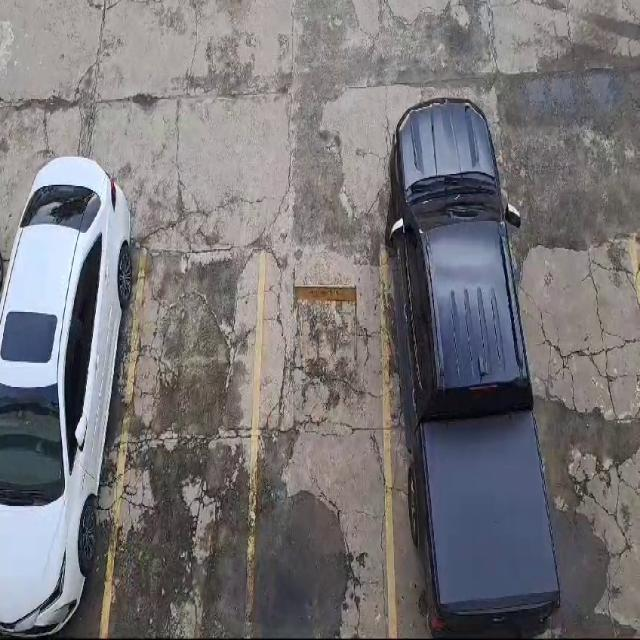empty: (104, 253, 264, 639), (249, 254, 395, 636), (508, 238, 639, 636)
notEmpty: (384, 239, 541, 635), (1, 249, 144, 639)
